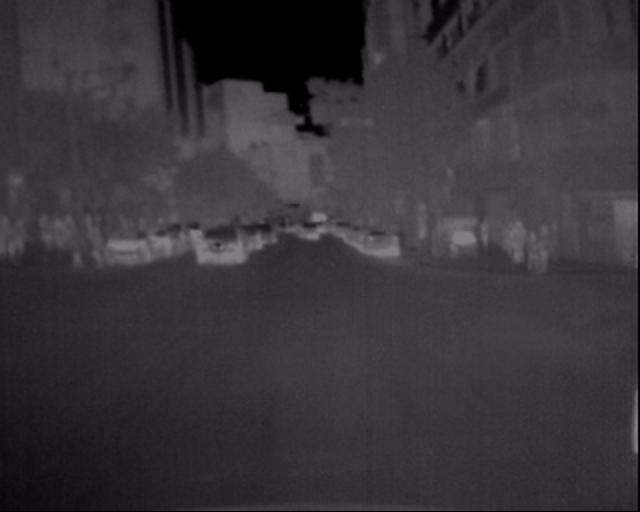person: (0, 207, 69, 275), (79, 222, 118, 279), (54, 224, 91, 280), (531, 211, 559, 278), (508, 210, 534, 268), (503, 213, 528, 265), (522, 223, 544, 275), (470, 208, 493, 254)
